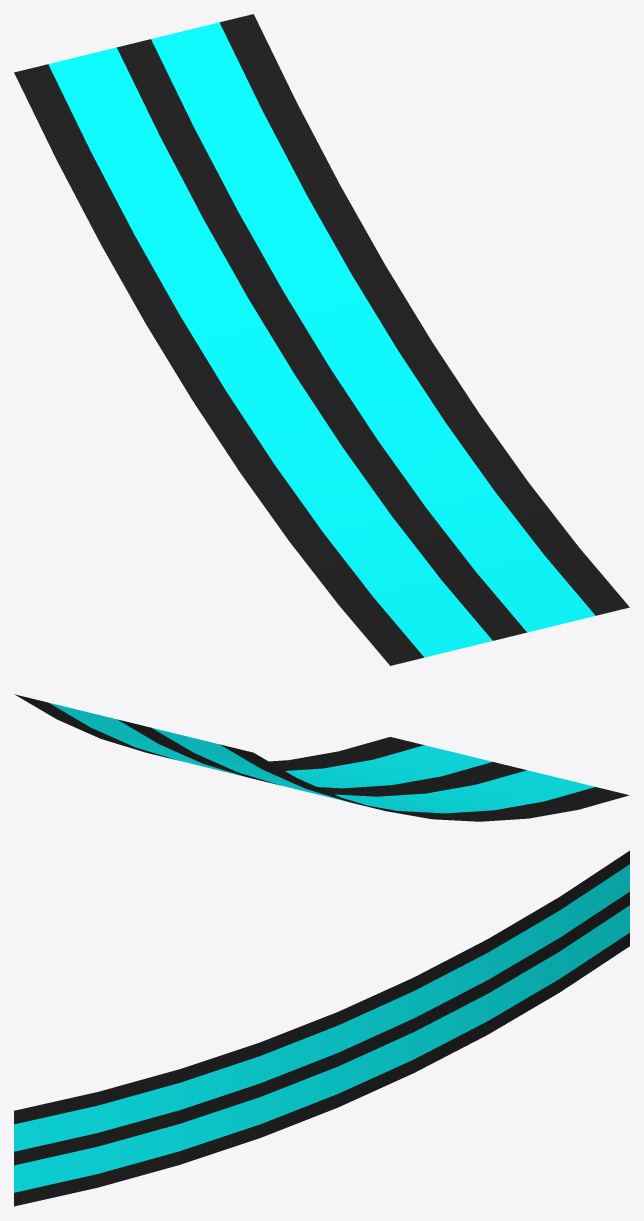
File: RaceTrack_Up25DegreeBent_15m 1.fbx
3 renders of one model, top to bottom at view 1: azimuth 30°, elevation 25°; view 2: azimuth 150°, elevation 25°; view 3: azimuth 270°, elevation 25°, orthographic. The views are drawn at different scales.
Visible parts, largest first — view 1: Up25DegreeBent_15m; view 2: Up25DegreeBent_15m; view 3: Up25DegreeBent_15m.
Part boxes in pixels (bbox=[...]): Up25DegreeBent_15m: bbox=[14, 14, 629, 665]; Up25DegreeBent_15m: bbox=[15, 694, 629, 821]; Up25DegreeBent_15m: bbox=[14, 850, 629, 1206].
Size of the model in its own units: 5 by 6.34 by 13.59.
